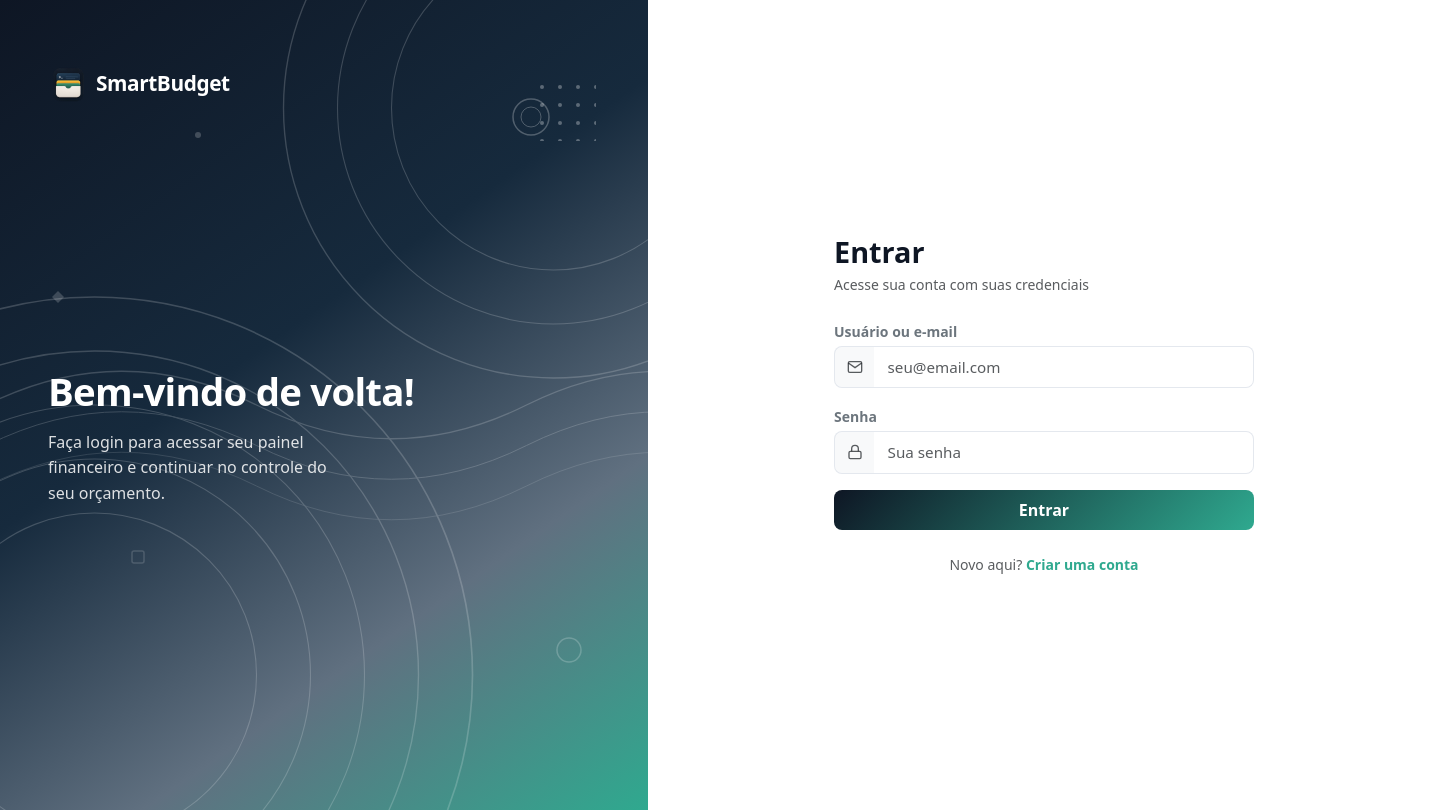
Tela de Login › deve exibir mensagem de alerta na tela caso a API de login retorne erro
In the field labelled "Usuário ou e-mail": (1064, 367) [874,346,1254,388], type "errado@email.com"
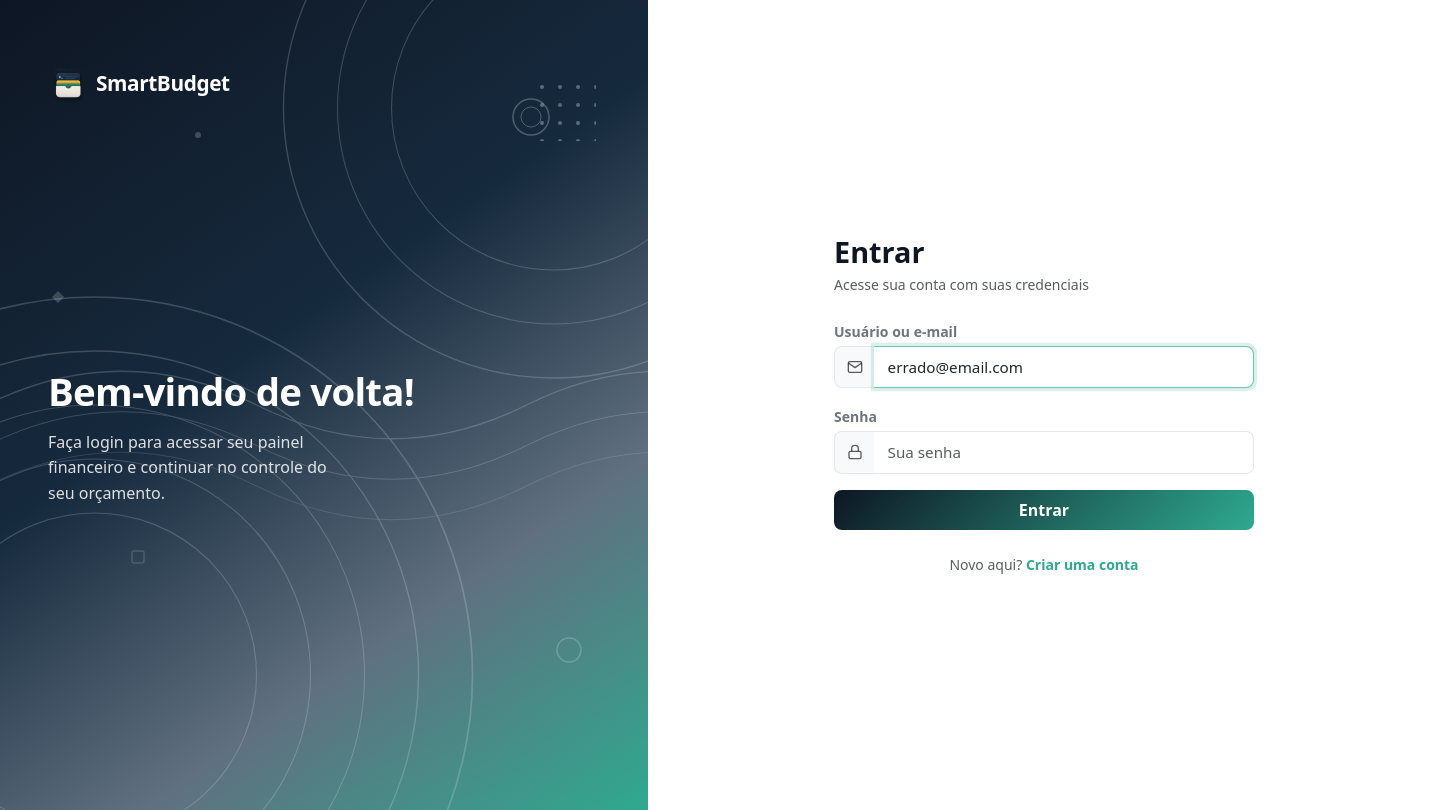
In the password field labelled "Senha": (1064, 452) [874,431,1254,474], type "senhaerrada"
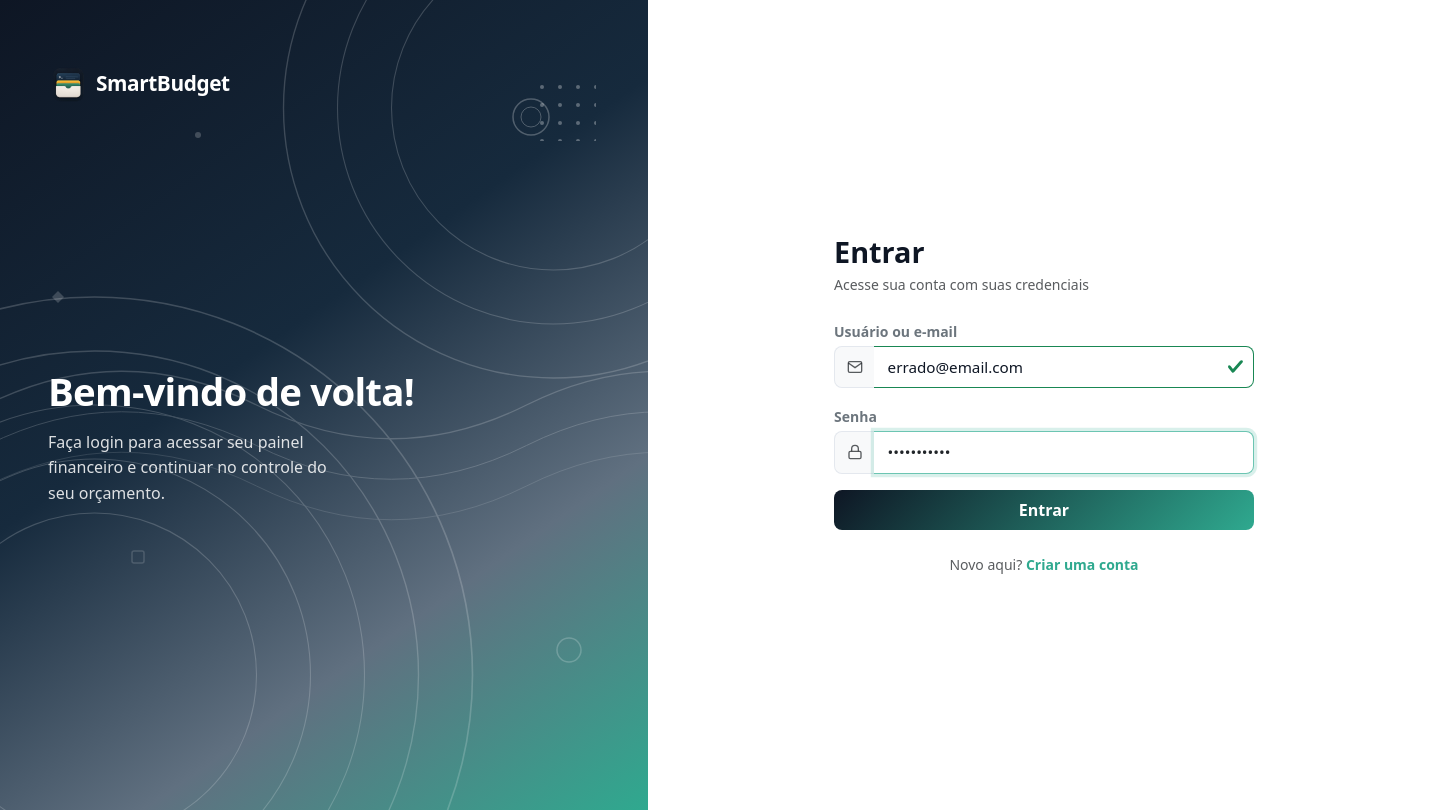
Click the button "Entrar": (1044, 510) [834,490,1254,530]
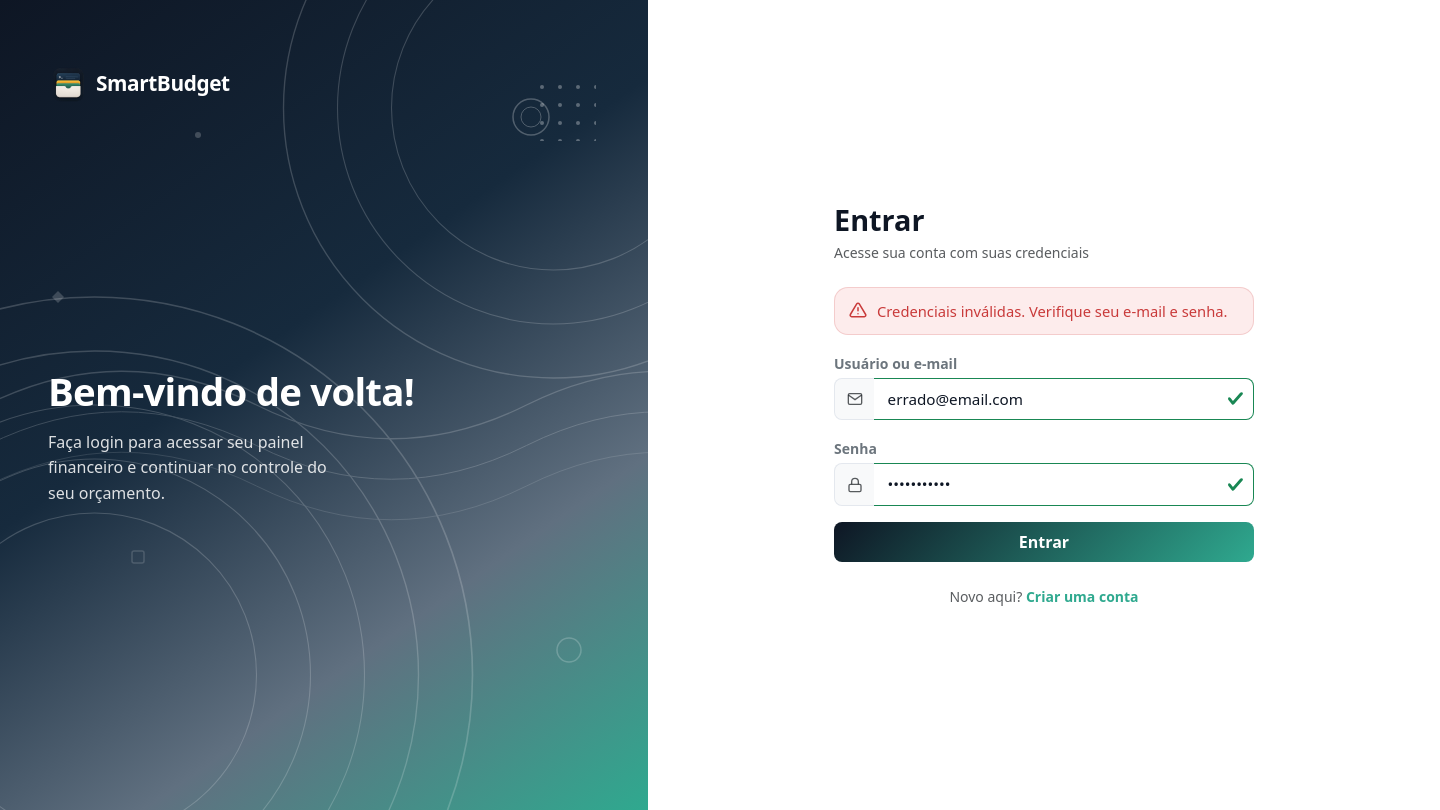
Check: the text "Credenciais inválidas. Verifique seu e-mail e senha." is shown, box [877,300,1228,322]
